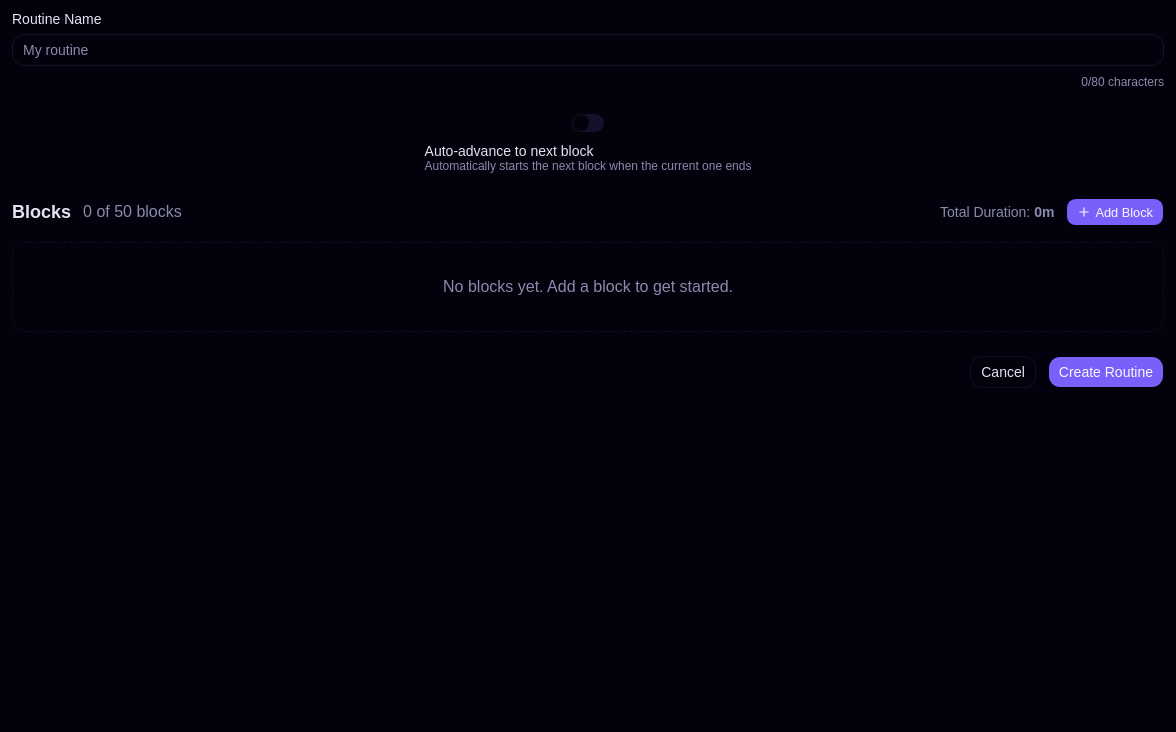
Scenario: RoutineEditor › shows API error message when submission fails
The image size is (1176, 732).
Type "My New Routine" into the field with placeholder "My routine".
click(588, 50); type("My New Routine")  # box [12,34,1164,66]
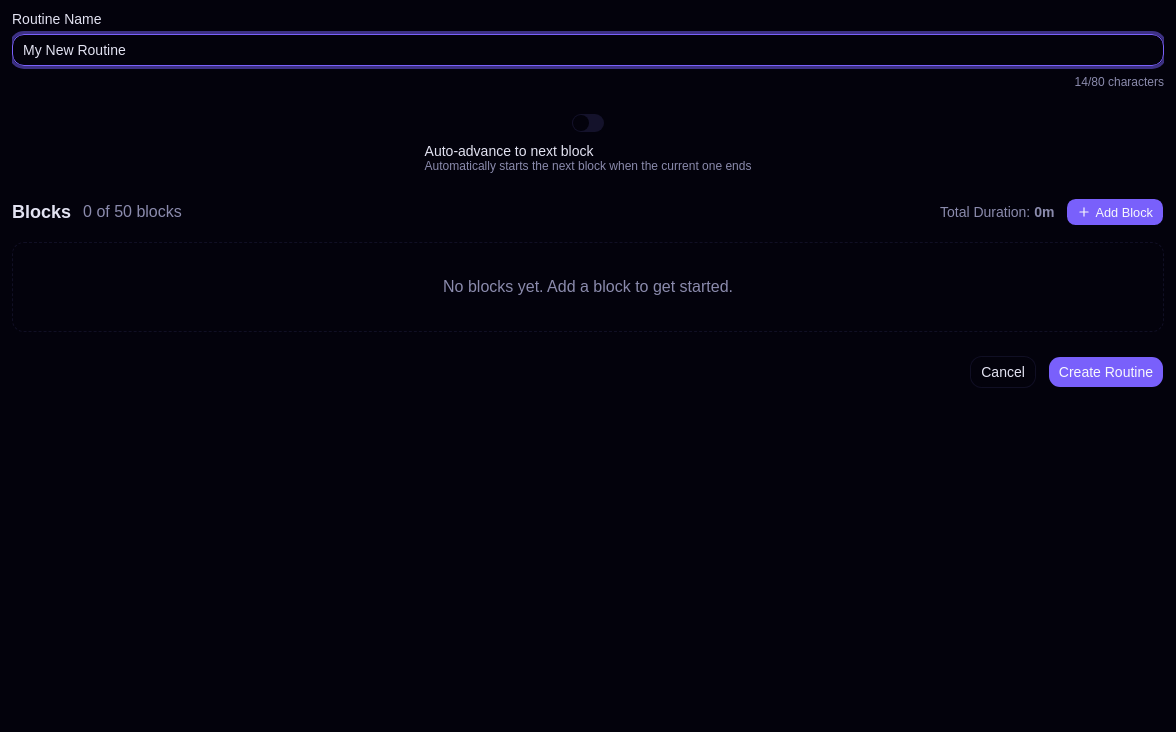
Click the button "Add Block".
click(1115, 212)  # box [1066,198,1164,226]
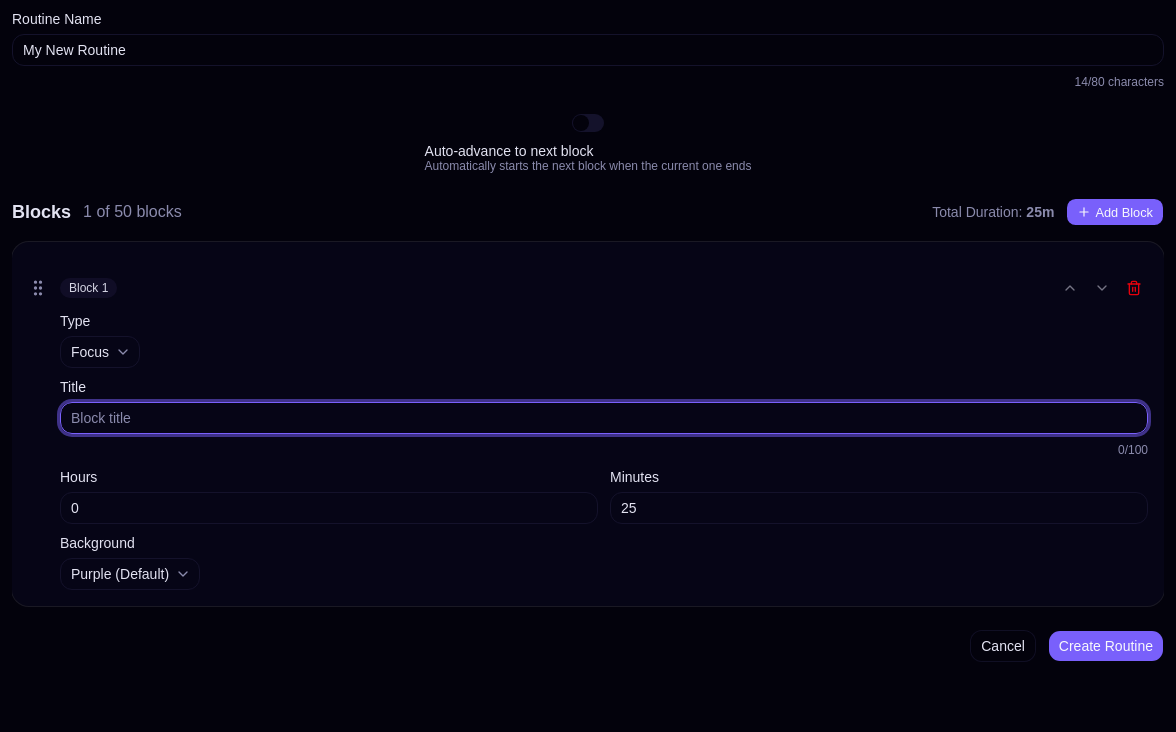
Type "Focus Session" into the field with placeholder "Block title".
click(604, 418); type("Focus Session")  # box [60,402,1148,434]
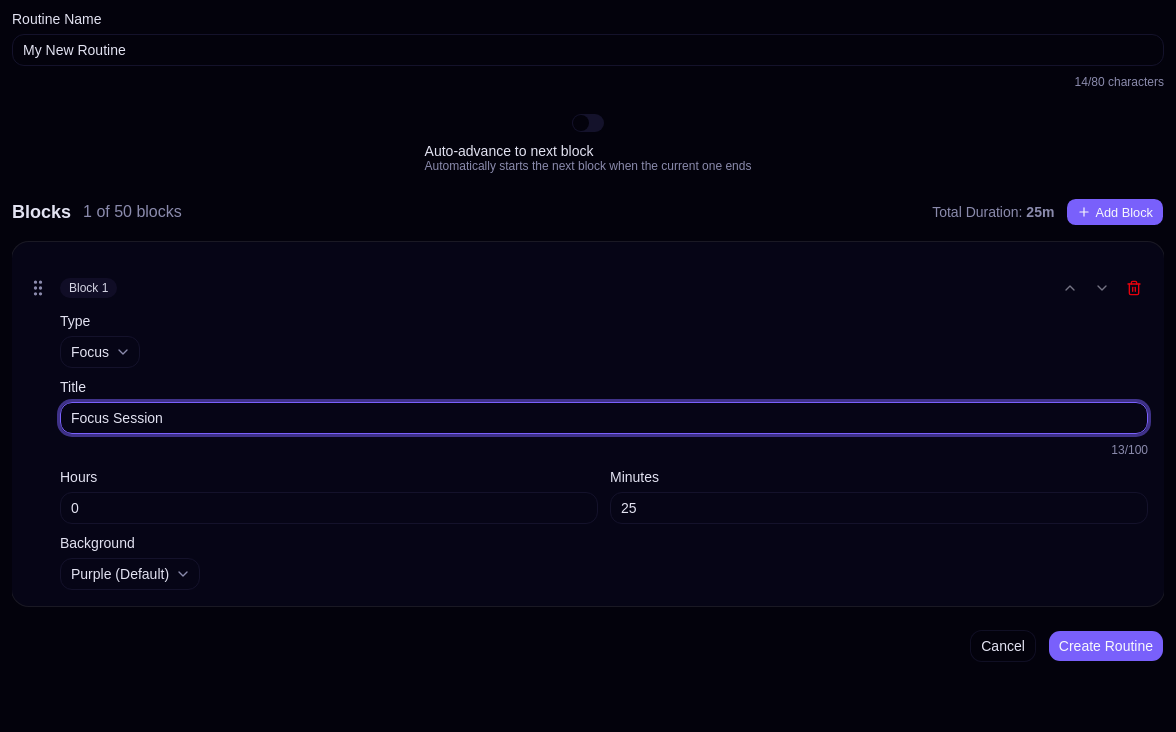
Click the button "Create Routine".
click(1106, 646)  # box [1048,630,1164,662]
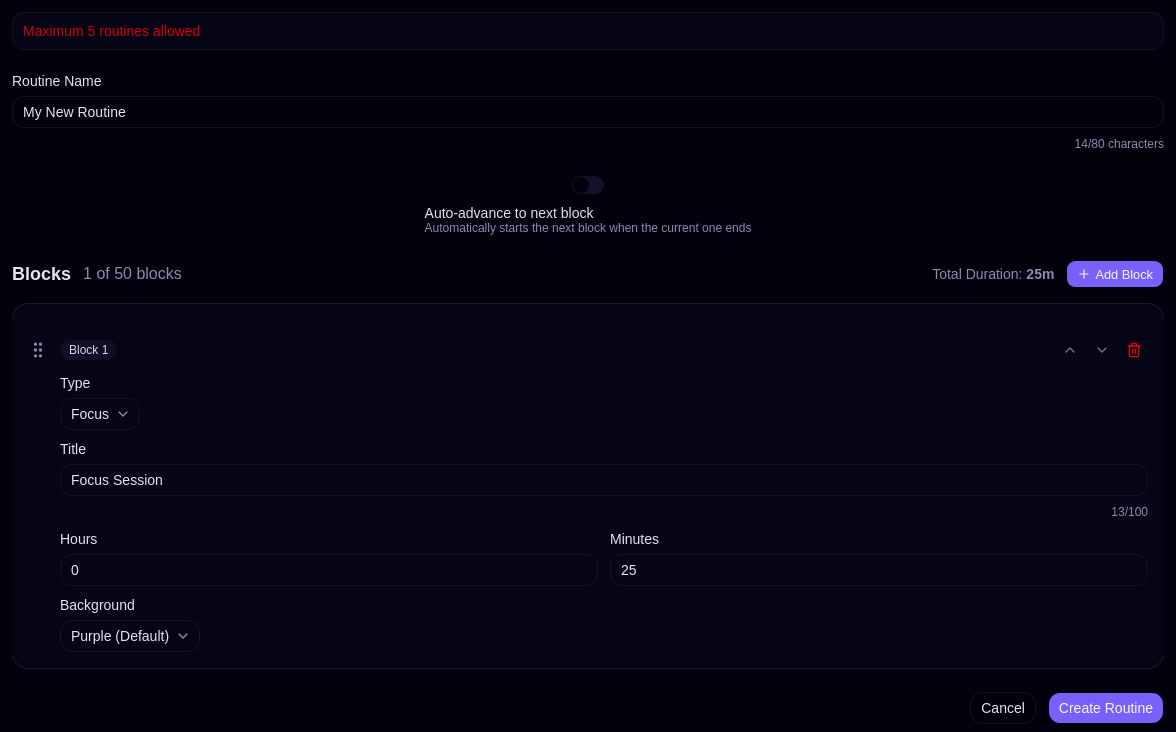
Check: the text "Maximum 5 routines allowed" is shown, box [23,23,200,39]
